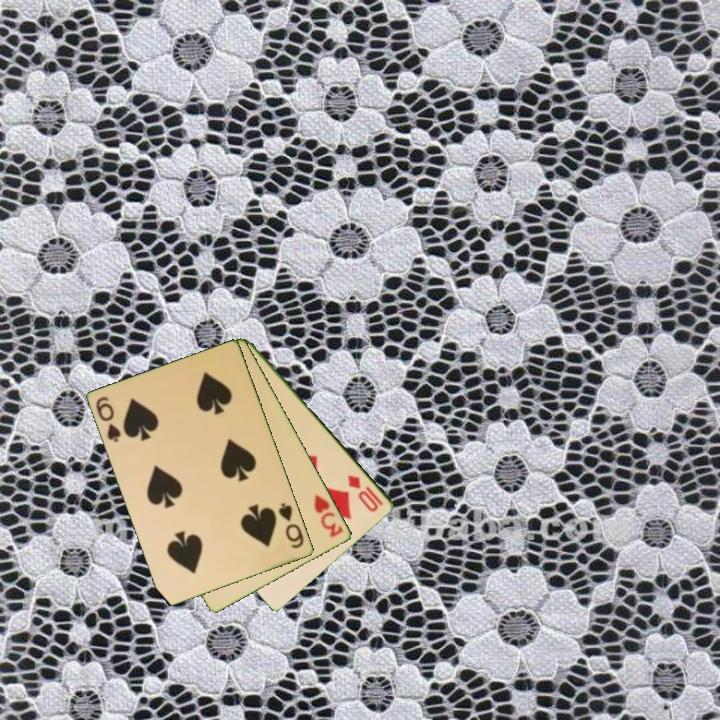10d: (344, 471, 386, 515)
3h: (311, 491, 346, 541)
6s: (275, 499, 307, 552), (93, 393, 124, 445)
